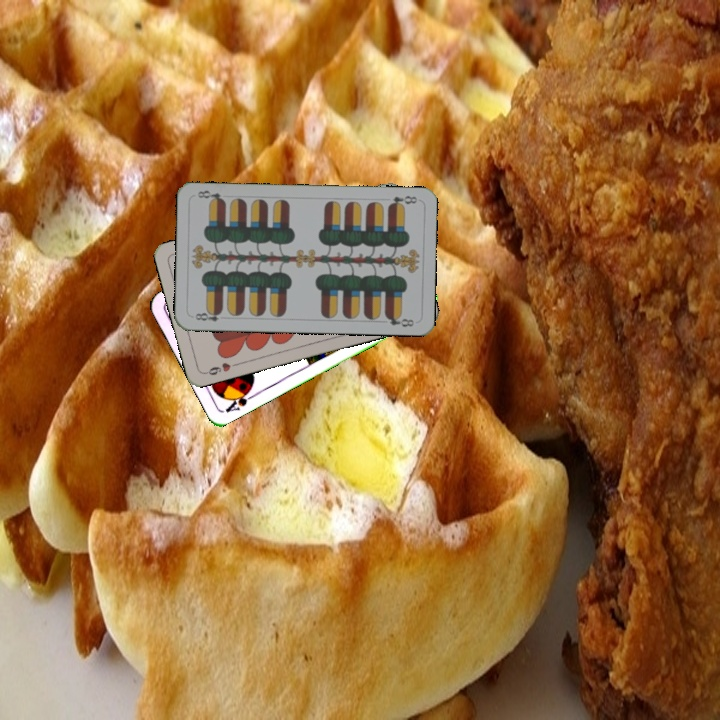E8: (384, 191, 419, 210), (191, 307, 224, 324)
H9: (201, 358, 241, 378)
SA: (221, 384, 259, 415)
